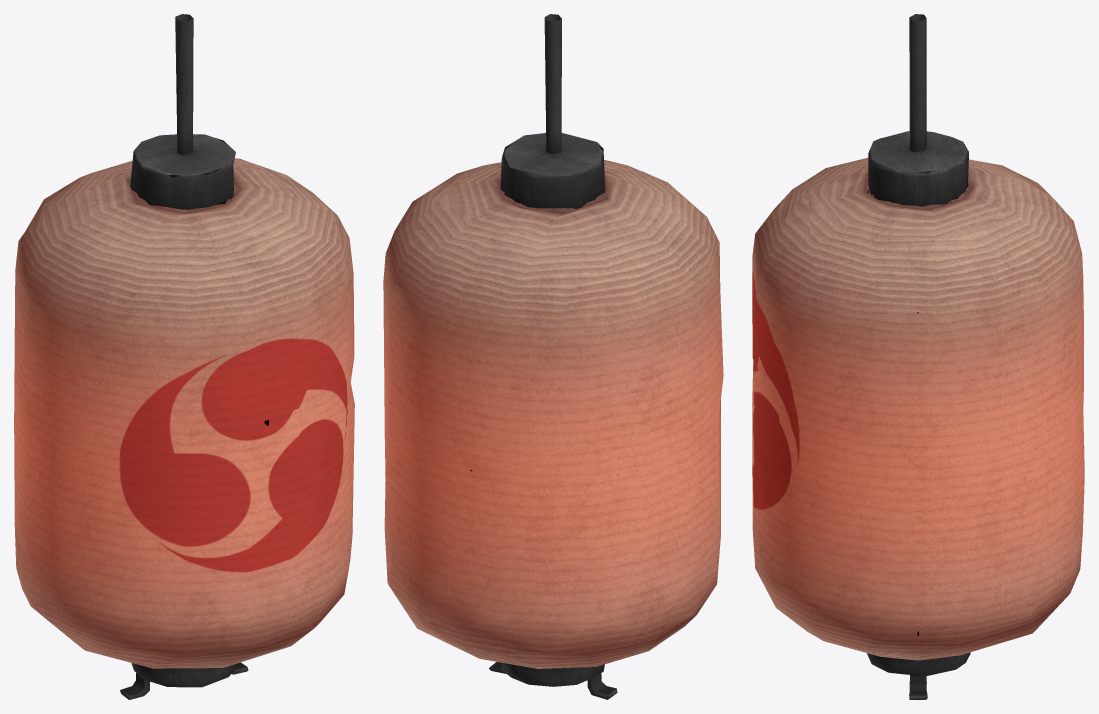
The model's file is japanese_lamp.glb.
3 renders of one model, left to right at view 1: azimuth 30°, elevation 25°; view 2: azimuth 150°, elevation 25°; view 3: azimuth 270°, elevation 25°, orthographic.
Visible parts, largest first — view 1: Object_4; view 2: Object_4; view 3: Object_4.
Boxes of the visible parts, x1,y1,x2,y2 form: Object_4: (14, 14, 354, 699); Object_4: (383, 14, 723, 699); Object_4: (752, 14, 1084, 699).
Size of the model in its own units: 0.596 by 1.27 by 0.5855.
Materials: 1 (1 with a texture image).
